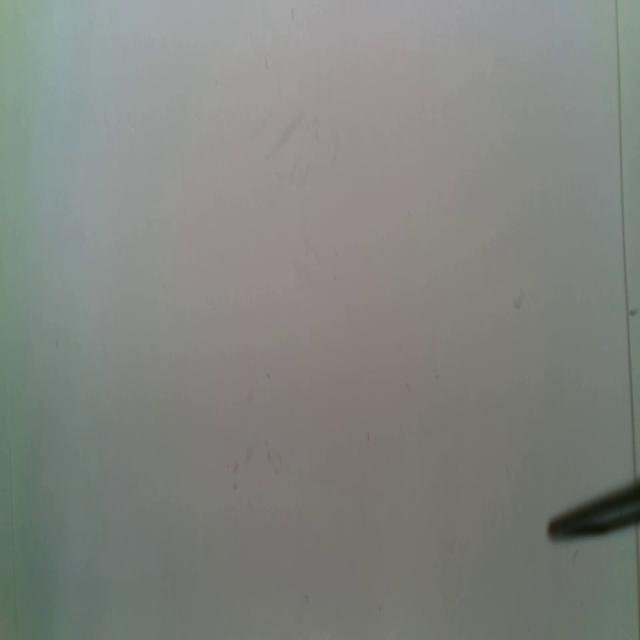crease: (614, 0, 637, 480)
